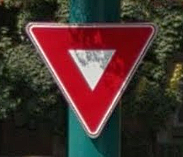cedeaza: (25, 18, 157, 138)
